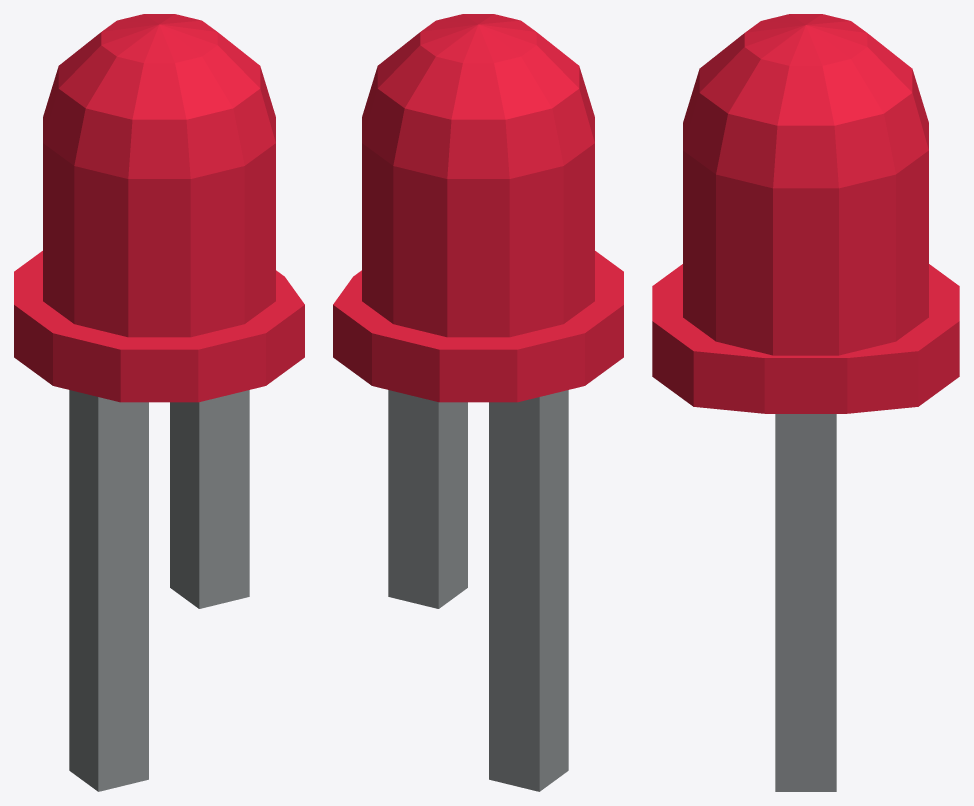
Rendered from LED.obj.
3 views of the same model, side by side, from view 1: azimuth 30°, elevation 25°; view 2: azimuth 150°, elevation 25°; view 3: azimuth 270°, elevation 25° (orthographic). The views are drawn at different scales.
Parts seen in each view (by area): view 1: mesh, mid, top, bot; view 2: mesh, mid, top, bot; view 3: mid, top, mesh, bot.
Boxes of the visible parts, <box> form: mesh: <box>69,390,249,791</box>; mid: <box>43,143,275,337</box>; top: <box>43,14,275,178</box>; bot: <box>14,251,304,402</box>; mesh: <box>388,390,568,791</box>; mid: <box>362,143,594,337</box>; top: <box>362,14,594,178</box>; bot: <box>333,251,623,402</box>; mid: <box>683,150,928,355</box>; top: <box>683,14,928,188</box>; mesh: <box>775,414,836,791</box>; bot: <box>652,264,959,413</box>.
Size of the model in its own units: 0.1437 by 0.4375 by 0.1562.
1 material, 1 textured.
